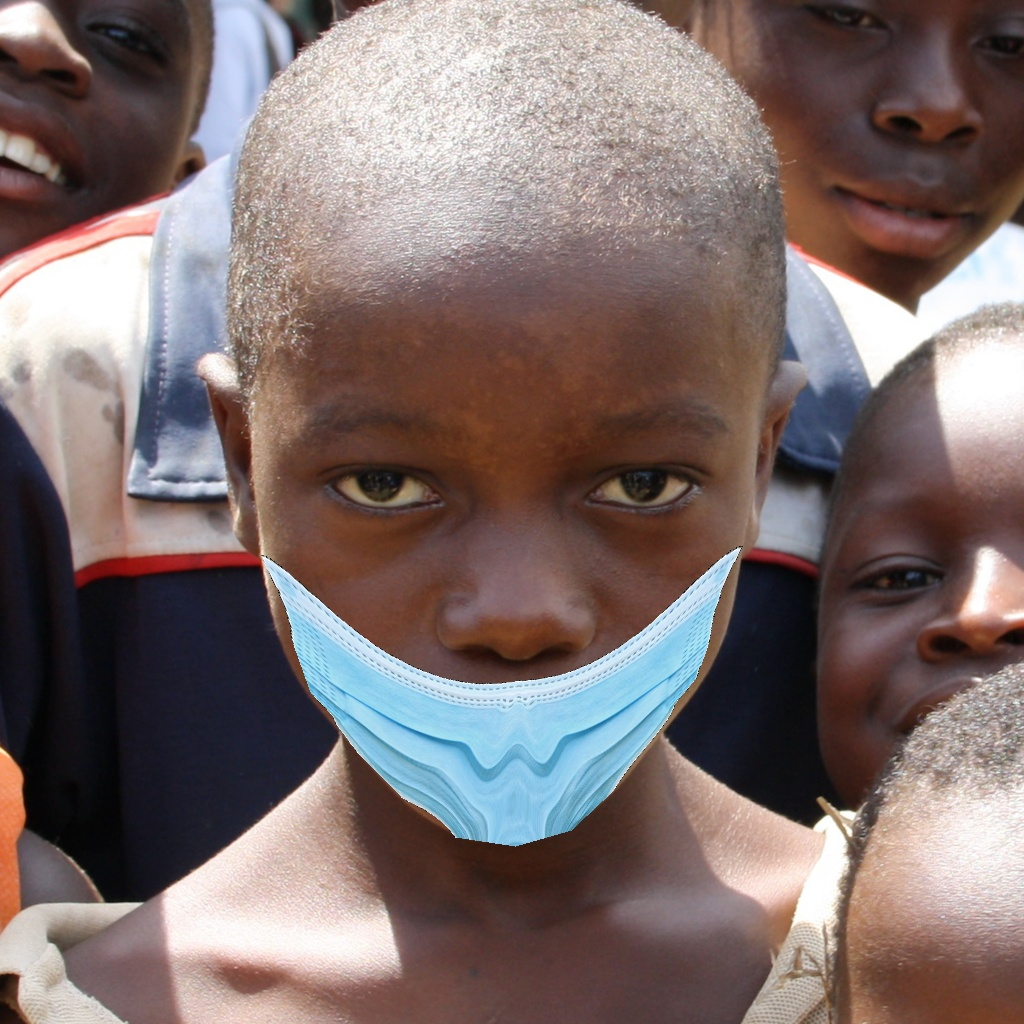mask_weared_incorrect: (291, 431, 727, 854)
